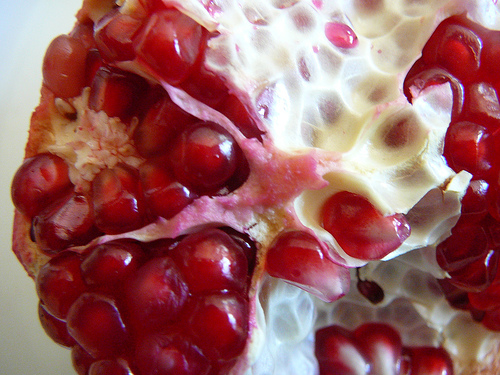pomogranate: (11, 0, 499, 374)
